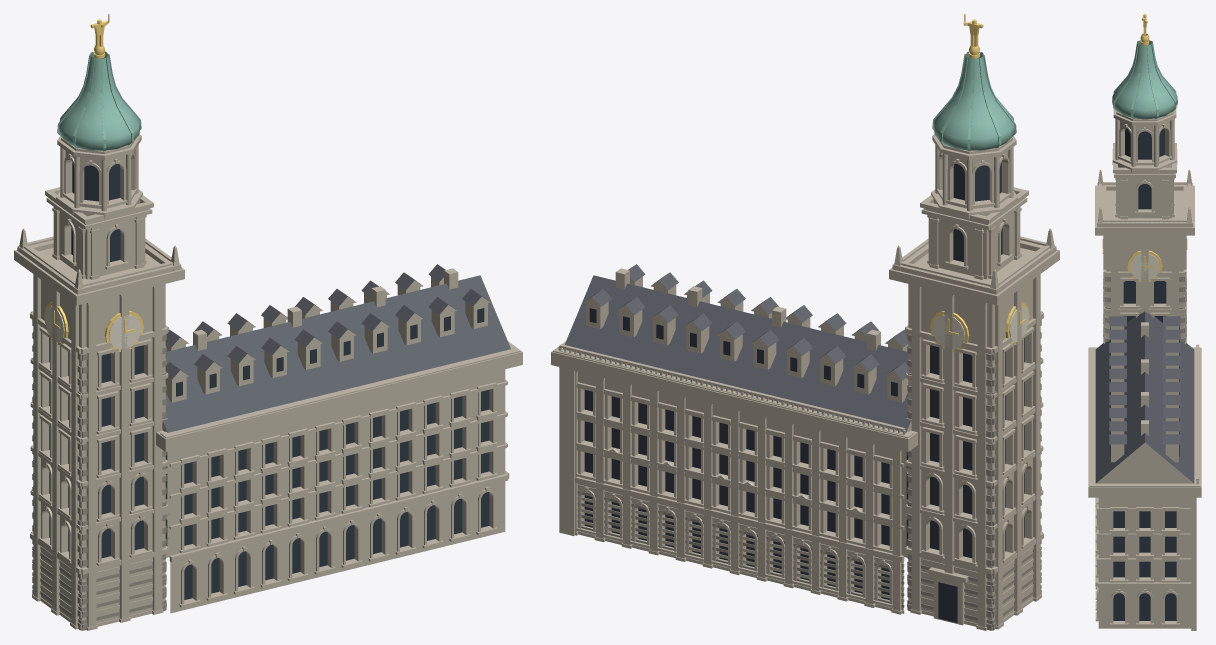
The model's file is rathausturm.glb.
3 renders of one model, left to right at view 1: azimuth 30°, elevation 25°; view 2: azimuth 150°, elevation 25°; view 3: azimuth 270°, elevation 25°, orthographic. The views are drawn at different scales.
Visible parts, largest first — view 1: rathausturm; view 2: rathausturm; view 3: rathausturm.
Boxes of the visible parts, x1,y1,x2,y2 form: rathausturm: (14, 14, 522, 630); rathausturm: (551, 14, 1059, 630); rathausturm: (1088, 14, 1201, 630).
Bounding box in the file's own units: 79.2 × 100 × 22.
